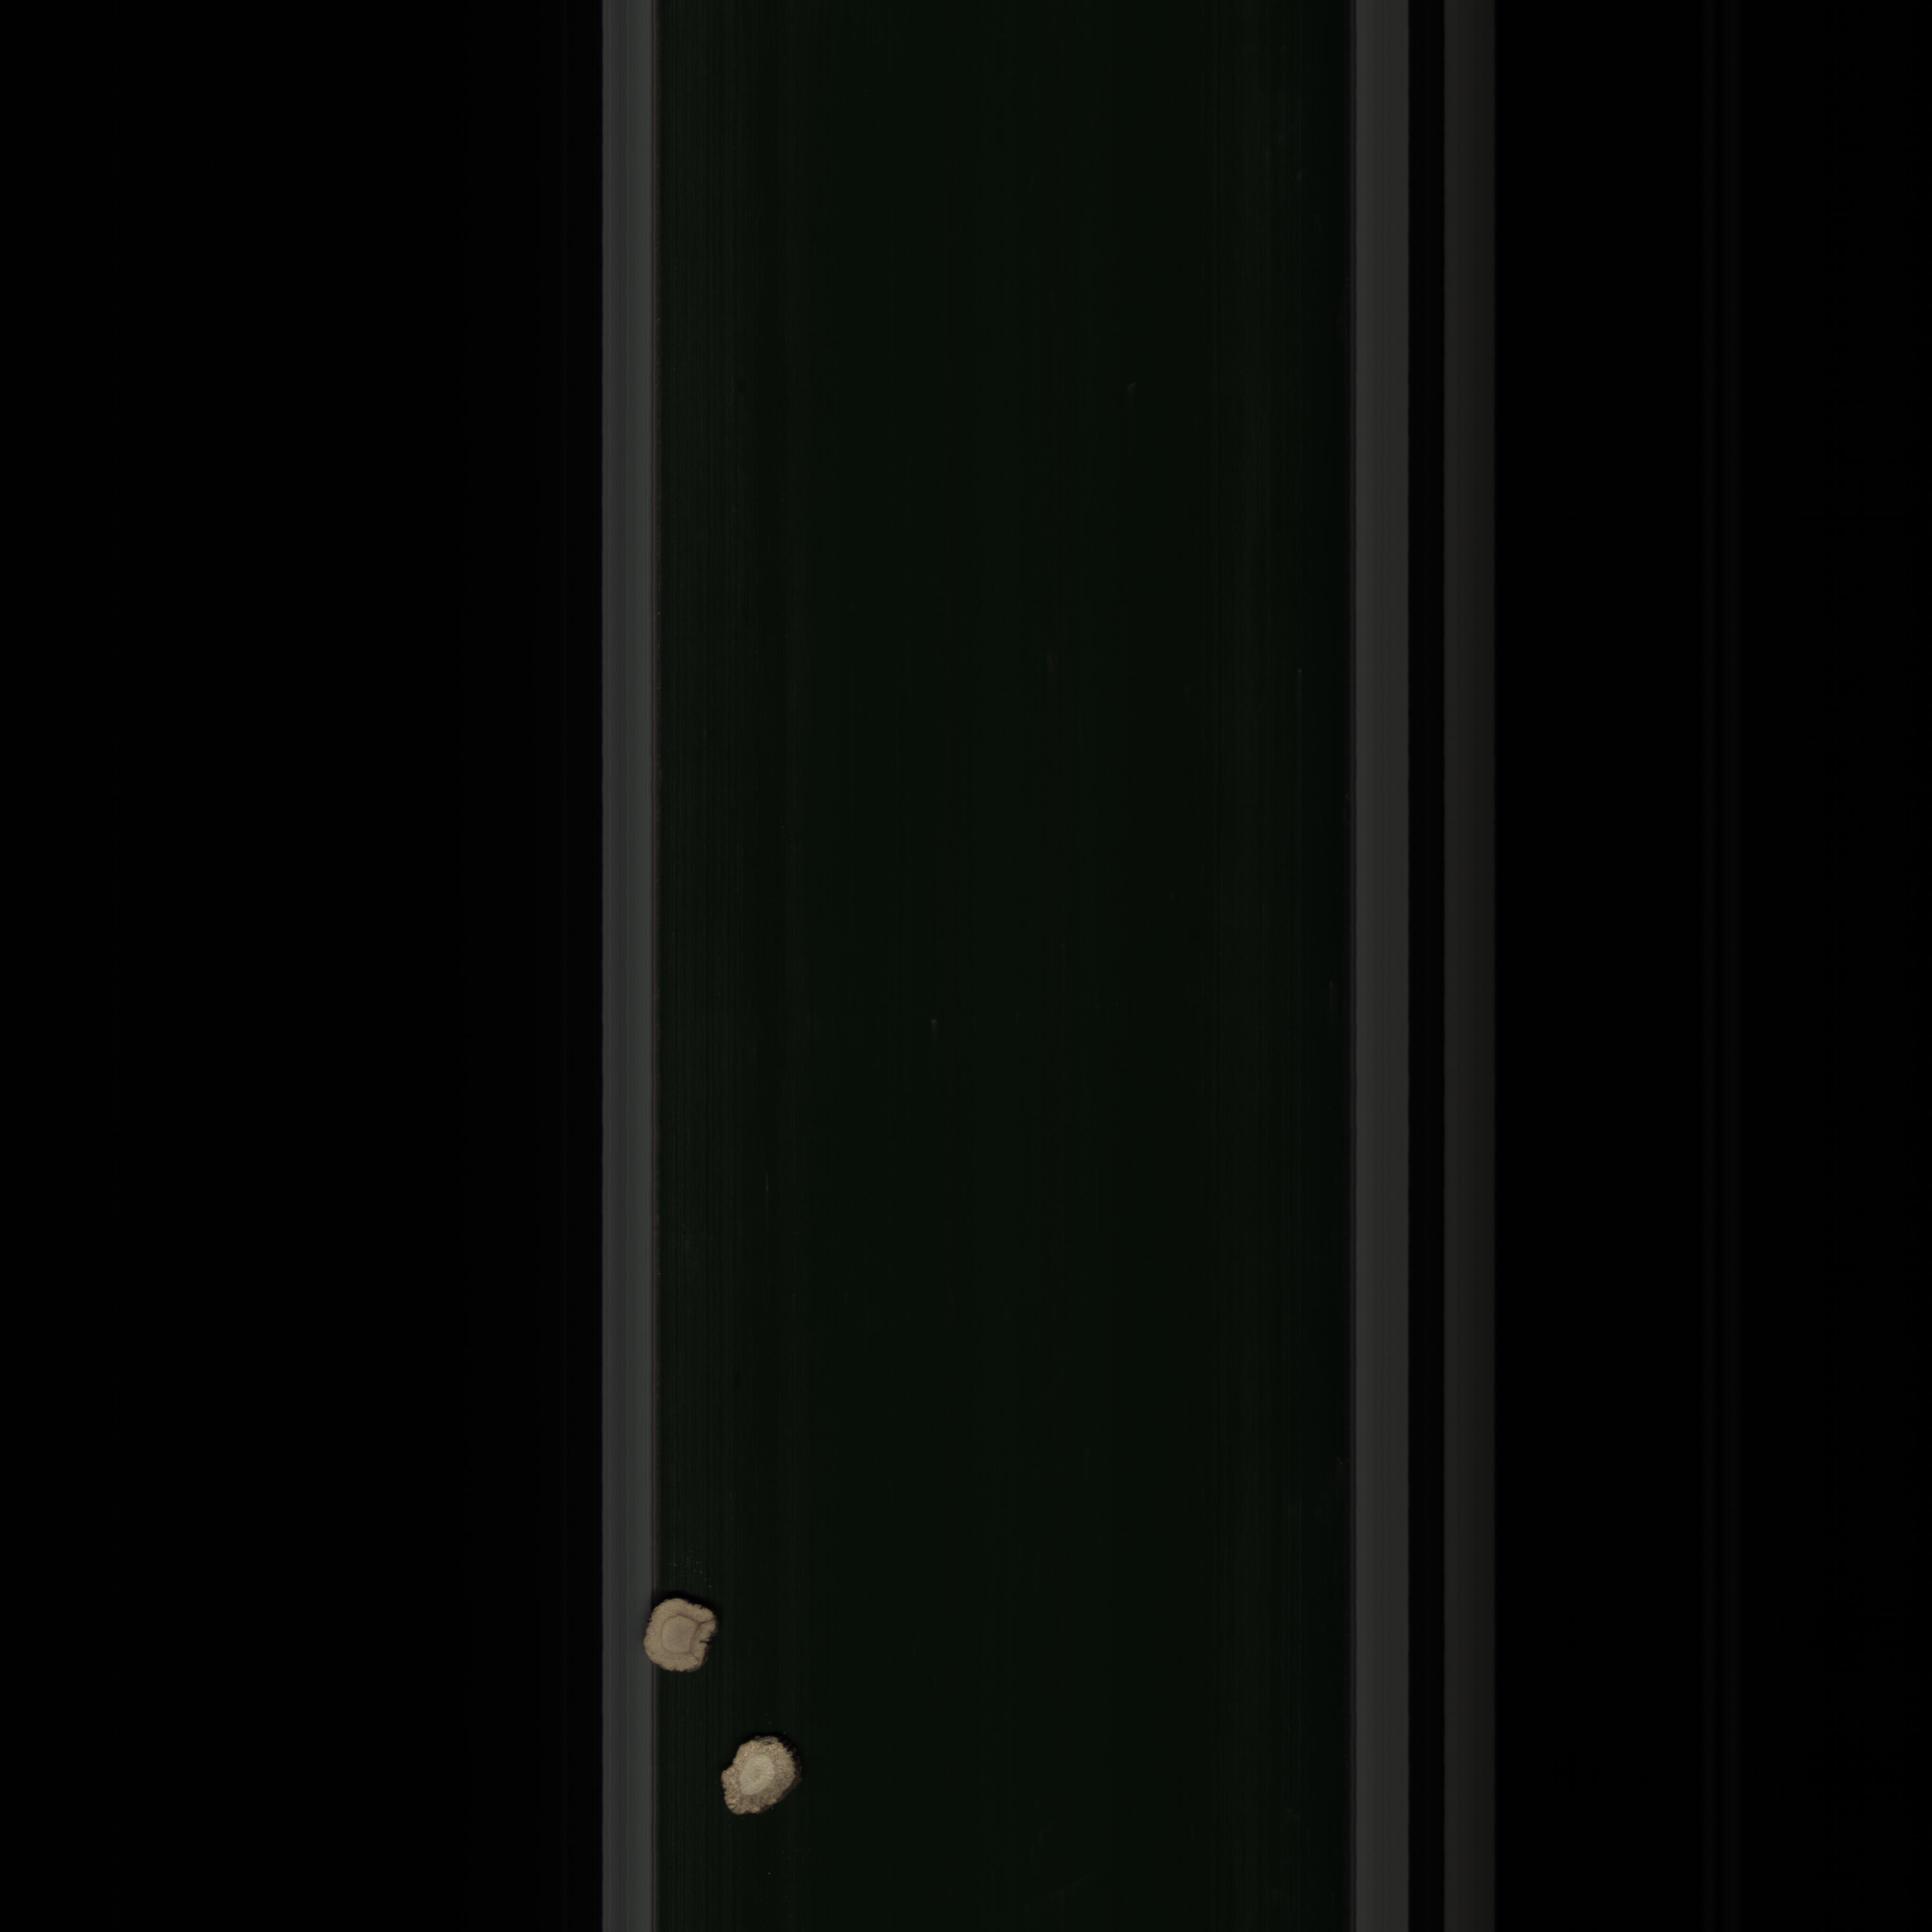debris: (709, 1725, 805, 1821)
